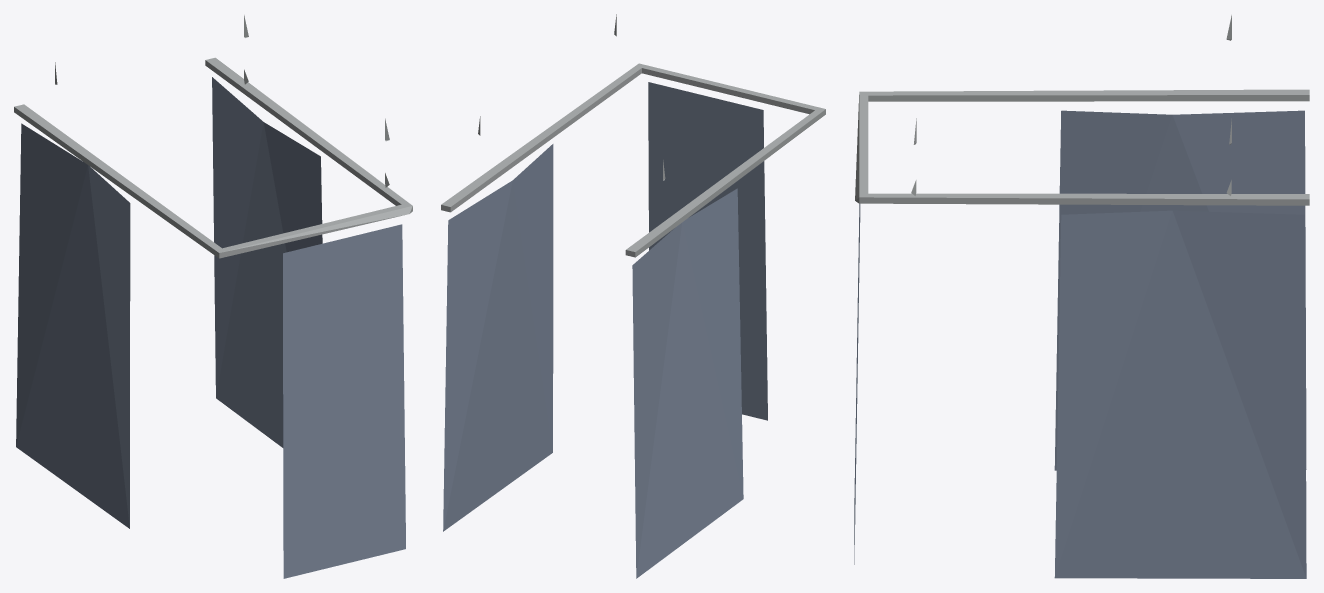
File: bed-curtain.lod2.glb
3 views of the same model, side by side, from view 1: azimuth 30°, elevation 25°; view 2: azimuth 150°, elevation 25°; view 3: azimuth 270°, elevation 25° (orthographic). The views are drawn at different scales.
Visible parts, largest first — view 1: defaultMaterial; view 2: defaultMaterial; view 3: defaultMaterial.
Boxes of the visible parts, x1,y1,x2,y2 form: defaultMaterial: [14, 15, 412, 578]; defaultMaterial: [441, 14, 825, 578]; defaultMaterial: [854, 15, 1309, 578].
Size of the model in its own units: 1.18 by 2.3 by 2.07.
